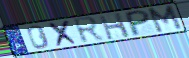0: (27, 24, 51, 50)
H: (97, 11, 132, 41)
M: (146, 4, 185, 35)
P: (125, 9, 151, 38)
R: (71, 15, 106, 46)
X: (46, 19, 81, 48)
